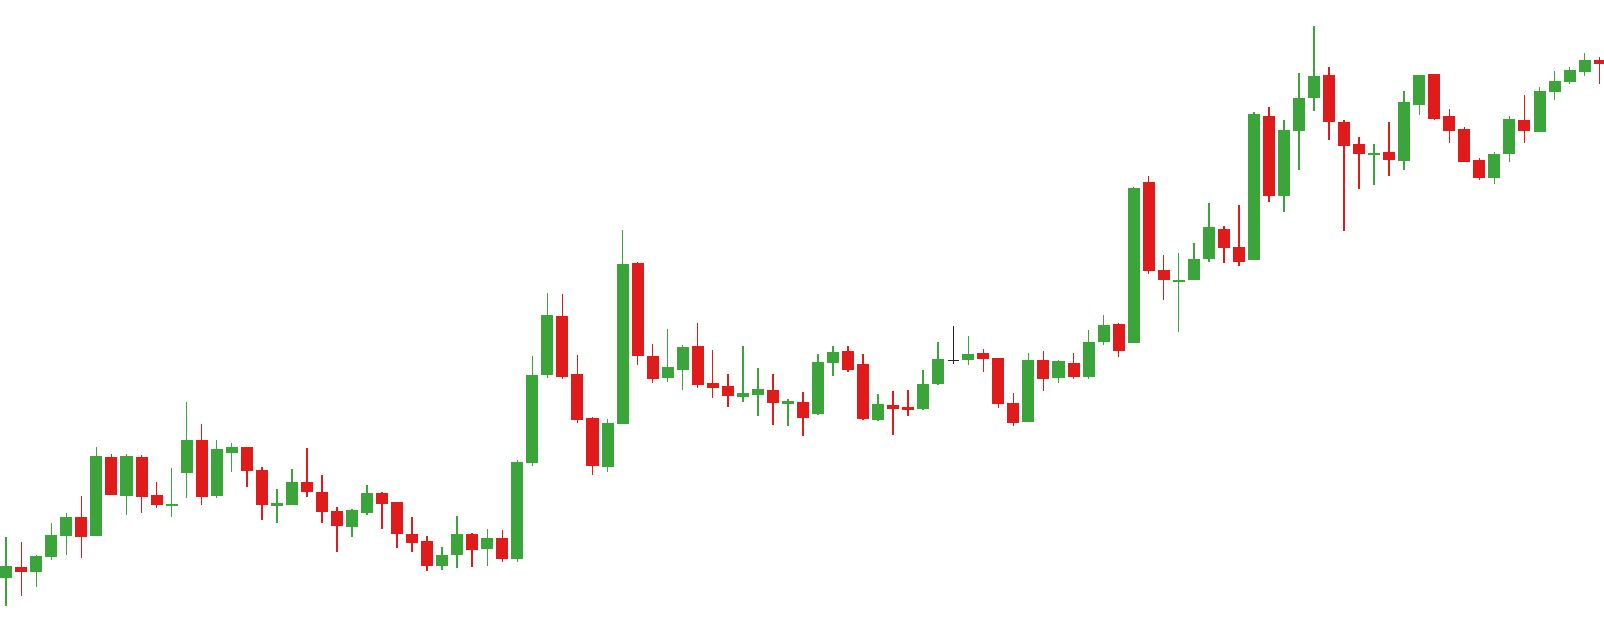buy: (1382, 107, 1504, 189)
